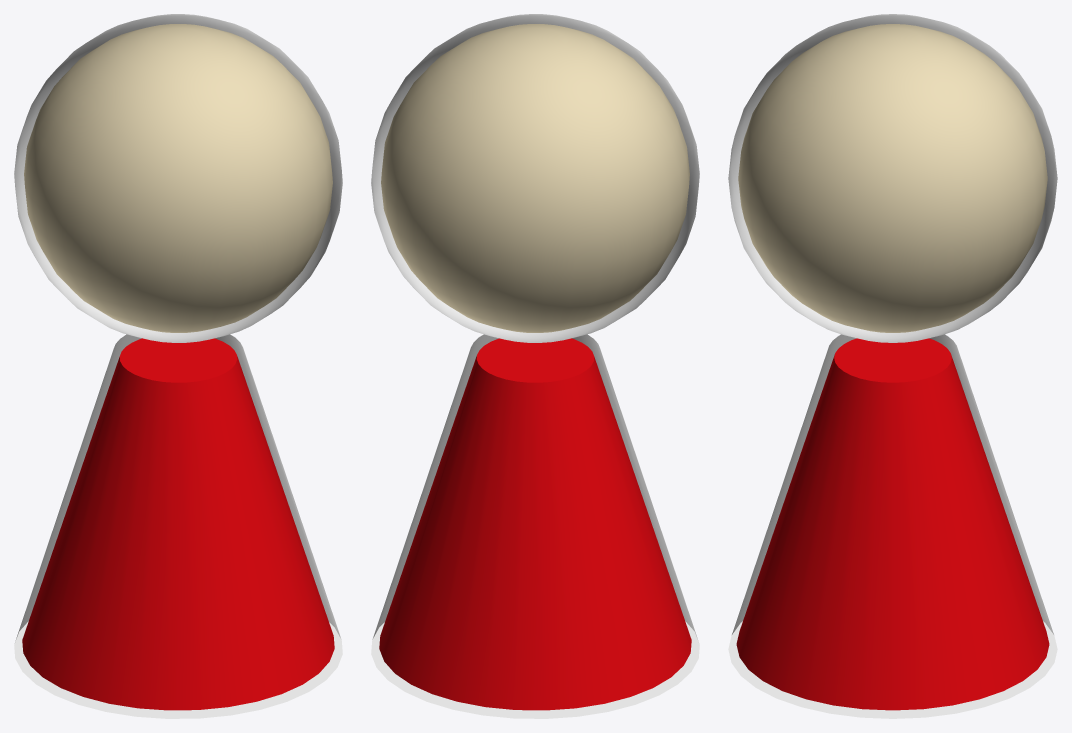
Rendered from character-red.glb.
3 views of the same model, side by side, from view 1: azimuth 30°, elevation 25°; view 2: azimuth 150°, elevation 25°; view 3: azimuth 270°, elevation 25° (orthographic).
Visible parts, largest first — view 1: Sphere.001; view 2: Sphere.001; view 3: Sphere.001.
Boxes of the visible parts, bbox=[...] form: Sphere.001: bbox=[14, 14, 342, 718]; Sphere.001: bbox=[371, 14, 699, 718]; Sphere.001: bbox=[728, 14, 1057, 718].
Bounding box in the file's own units: 2 × 4.16 × 2.
